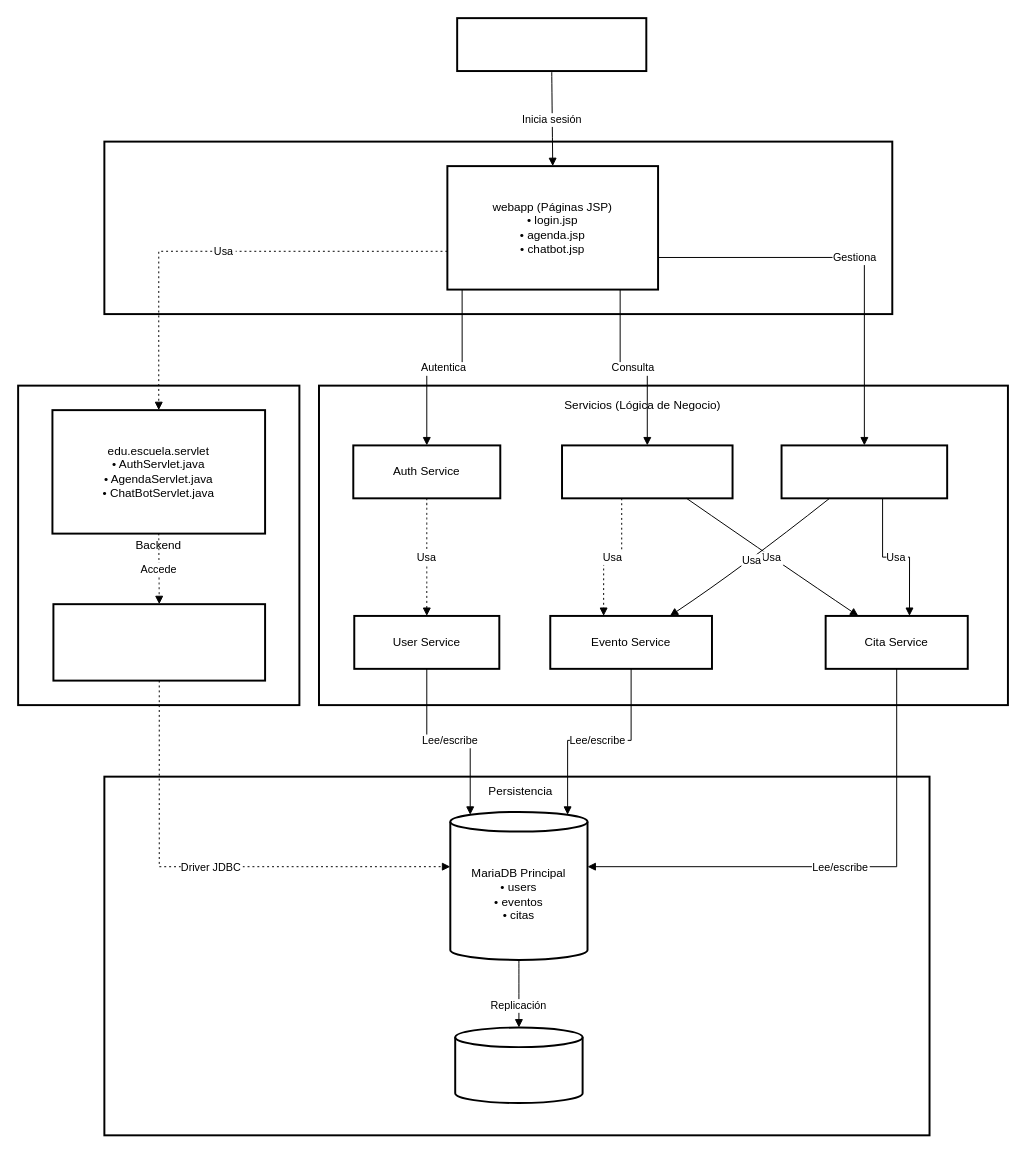
Image size: 1025x1152. Some labels were removed from this diagram. Here are the shapes that lost their labels. From the top down, the centre of each, then its label:
the point at 551,44: Sistema Acceso QR
the point at 647,471: ChatBot Service
the point at 864,471: Agenda Service
the point at 159,642: edu.escuela.conexion • DBUtil.java
the point at 518,1064: MariaDB Réplica
